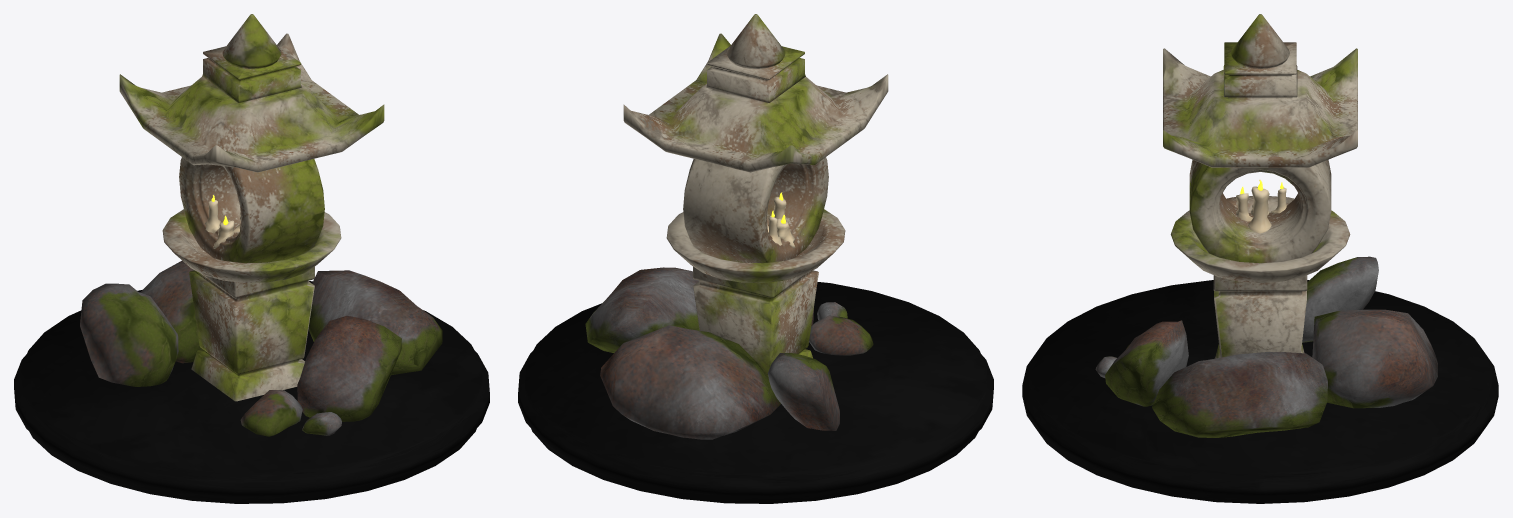
File: stone_japanese_lantern.glb
The picture shows the model from 3 angles, left to right: view 1: azimuth 30°, elevation 25°; view 2: azimuth 150°, elevation 25°; view 3: azimuth 270°, elevation 25°; orthographic projection.
Visible parts, largest first — view 1: Additionals; view 2: Additionals; view 3: Additionals.
Part boxes in pixels (bbox=[...]): Additionals: bbox=[14, 14, 489, 503]; Additionals: bbox=[518, 14, 993, 503]; Additionals: bbox=[1022, 14, 1498, 503].
Size of the model in its own units: 970 by 879 by 970.
Materials: 1 (1 with a texture image).
